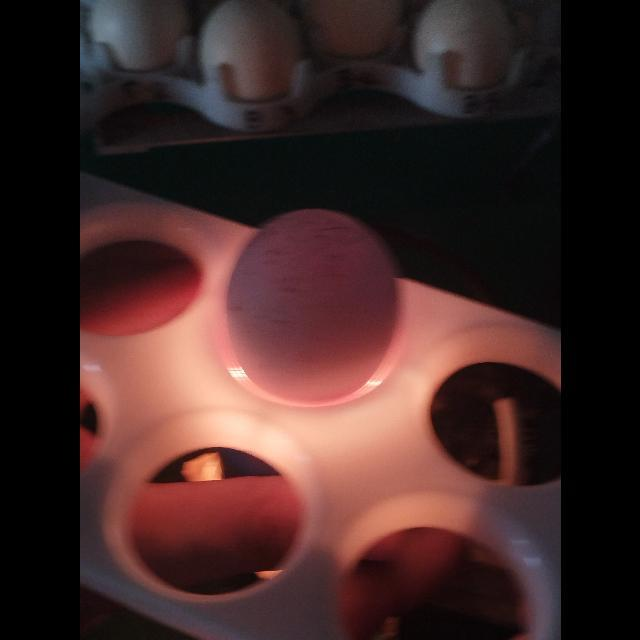Fertile: (218, 203, 404, 409)
